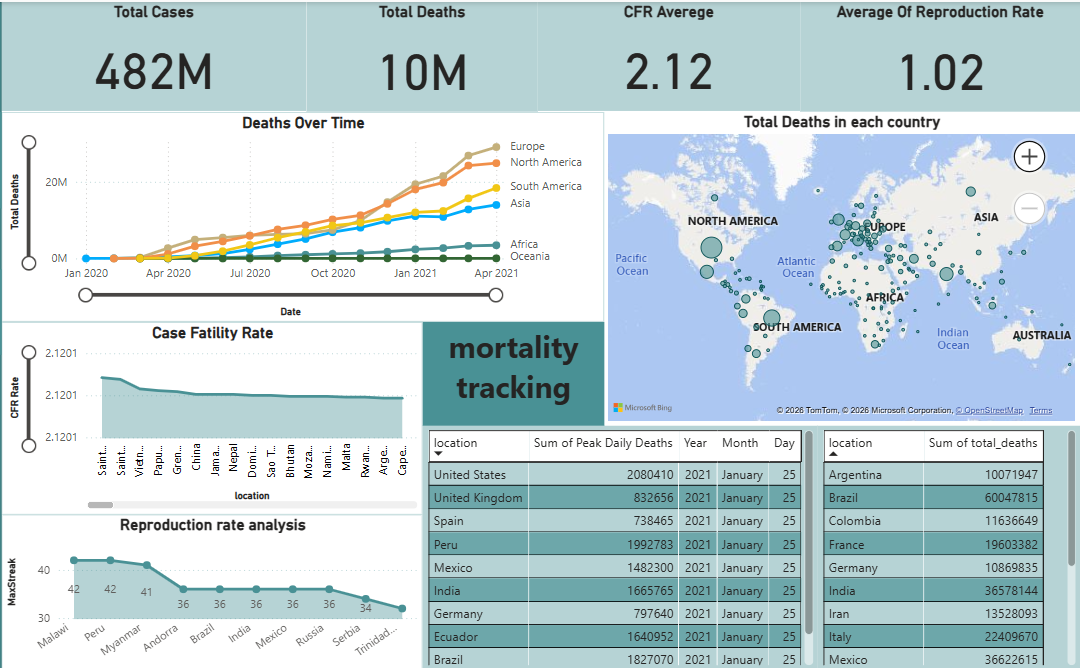

Layout of this report page (visuals, bound fields, positions):
{"tool":"powerbi","page":{"name":"mortality tracking","canvas":[1280,720],"ordinal":0},"visuals":[{"type":"lineChart","title":"Deaths Over Time","fields":{"Series":["CovidDeaths.continent"],"Y":["Sum(CovidDeaths.total_deaths)"],"Category":["CovidDeaths.date.Variation.Date Hierarchy.Year","CovidDeaths.date.Variation.Date Hierarchy.Month"]},"box":[116,118.7,650.3,226.6],"z":0},{"type":"map","title":"Total Deaths in each country","fields":{"Category":["CovidDeaths.location"],"Size":["Sum(CovidDeaths.total_deaths)"]},"box":[766.3,118.7,514,338.6],"z":1000},{"type":"tableEx","fields":{"Values":["CovidDeaths.location","Sum(CovidDeaths.total_deaths)"]},"box":[997,457.3,283.3,263.1],"z":2000},{"type":"areaChart","title":"Case Fatility Rate","fields":{"Y":["Avg(CovidDeaths.CFR)"],"Category":["CovidDeaths.location"]},"box":[116,345.4,454.6,207.8],"z":3000},{"type":"stackedAreaChart","title":"Reproduction rate analysis","fields":{"Category":["CovidDeaths.location"],"Y":["CovidDeaths.MaxStreak"]},"box":[116,553.1,454.6,167.3],"z":4000},{"type":"tableEx","fields":{"Values":["CovidDeaths.location","Sum(CovidDeaths.Peak Daily Deaths)","CovidDeaths.Peak Daily Death Date.Variation.Date Hierarchy.Year","CovidDeaths.Peak Daily Death Date.Variation.Date Hierarchy.Month","CovidDeaths.Peak Daily Death Date.Variation.Date Hierarchy.Day"]},"box":[570.7,457.3,426.3,263.1],"z":5000},{"type":"card","title":"Total Cases","fields":{"Values":["Sum(CovidDeaths.new_cases)"]},"box":[116,0,329.2,117.4],"z":6000},{"type":"card","title":"Total Deaths","fields":{"Values":["Sum(CovidDeaths.new_deaths)"]},"box":[445.2,0,249.6,118.7],"z":7000},{"type":"card","title":"CFR Averege","fields":{"Values":["Avg(CovidDeaths.CFR)"]},"box":[694.8,0,283.3,117.4],"z":8000},{"type":"card","title":"Average Of Reproduction Rate","fields":{"Values":["Avg(CovidDeaths.reproduction_rate)"]},"box":[978.1,0,302.2,118.7],"z":9000},{"type":"shape","box":[0,0,116,720.4],"z":10000},{"type":"image","box":[0,0,116,117.4],"z":11000},{"type":"textbox","box":[0,118.7,116,103.9],"z":12000},{"type":"textbox","box":[0,288.7,116,91.7],"z":13000},{"type":"actionButton","box":[0,360.2,116,40.5],"z":14000},{"type":"image","box":[0,654.3,116,66.1],"z":15000},{"type":"textbox","box":[570.7,345.4,195.6,112],"z":16000}]}

Visuals, with their boxes on the page's 1280x720 design canvas (x1, y1, x2, y2). These are canvas units, not pixel positions in the 1080x668 screenshot, which may show the page scaled, cropped or inside an application window:
"Deaths Over Time" lineChart: (x1=116, y1=119, x2=766, y2=345)
"Total Deaths in each country" map: (x1=766, y1=119, x2=1280, y2=457)
tableEx - CovidDeaths.location x Sum(CovidDeaths.total_deaths): (x1=997, y1=457, x2=1280, y2=720)
"Case Fatility Rate" areaChart: (x1=116, y1=345, x2=571, y2=553)
"Reproduction rate analysis" stackedAreaChart: (x1=116, y1=553, x2=571, y2=720)
tableEx - CovidDeaths.location x Sum(CovidDeaths.Peak Daily Deaths): (x1=571, y1=457, x2=997, y2=720)
"Total Cases" card: (x1=116, y1=0, x2=445, y2=117)
"Total Deaths" card: (x1=445, y1=0, x2=695, y2=119)
"CFR Averege" card: (x1=695, y1=0, x2=978, y2=117)
"Average Of Reproduction Rate" card: (x1=978, y1=0, x2=1280, y2=119)
shape: (x1=0, y1=0, x2=116, y2=720)
image: (x1=0, y1=0, x2=116, y2=117)
textbox: (x1=0, y1=119, x2=116, y2=223)
textbox: (x1=0, y1=289, x2=116, y2=380)
actionButton: (x1=0, y1=360, x2=116, y2=401)
image: (x1=0, y1=654, x2=116, y2=720)
textbox: (x1=571, y1=345, x2=766, y2=457)
